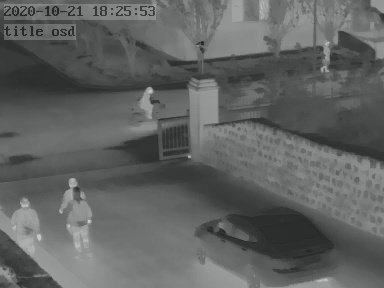person: (58, 176, 93, 261), (12, 196, 41, 259), (138, 84, 155, 121), (319, 38, 331, 72)
vehicle: (189, 209, 337, 288)
